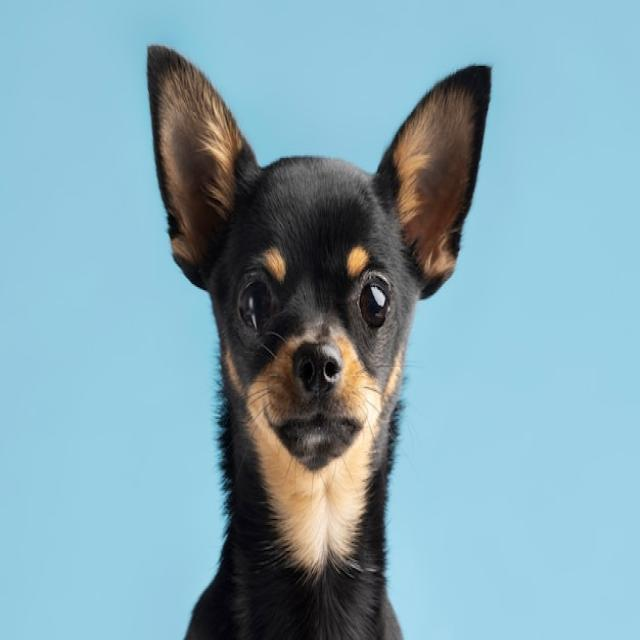Dog: (147, 46, 492, 640)
